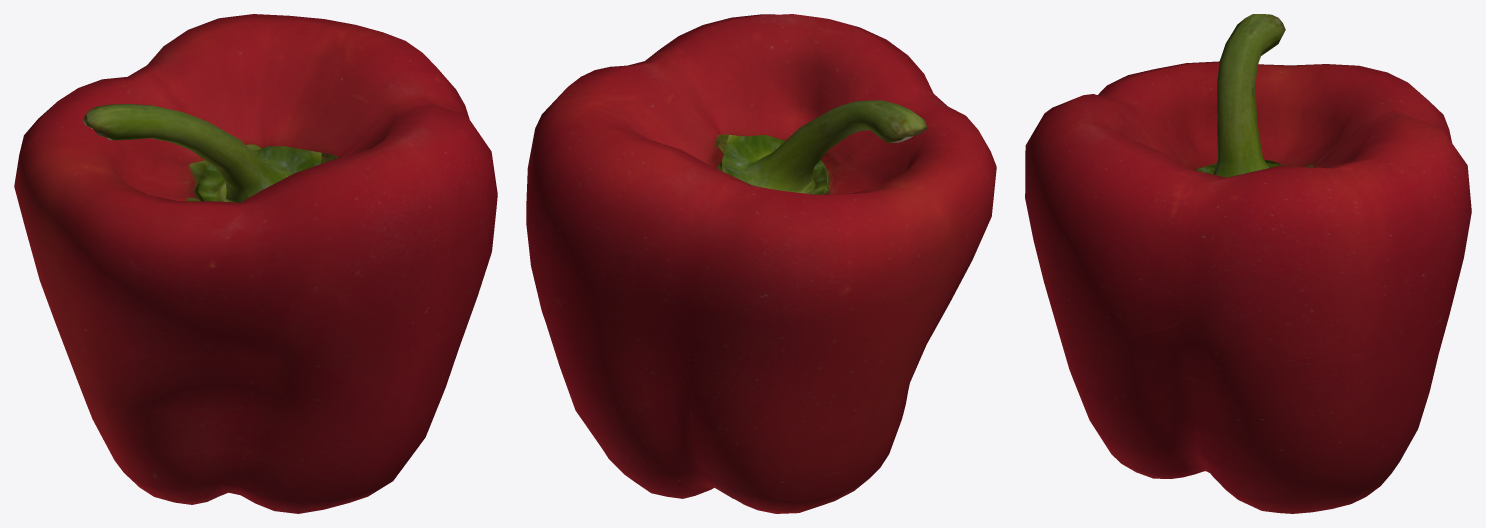
File: Red Capsicum.fbx
3 renders of one model, left to right at view 1: azimuth 30°, elevation 25°; view 2: azimuth 150°, elevation 25°; view 3: azimuth 270°, elevation 25°, orthographic. The views are drawn at different scales.
Parts seen in each view (by area): view 1: RedCapsicum; view 2: RedCapsicum; view 3: RedCapsicum.
Boxes of the visible parts, left/top/right/bottom form: RedCapsicum: left=14, top=14, right=497, bottom=513; RedCapsicum: left=526, top=14, right=996, bottom=513; RedCapsicum: left=1025, top=14, right=1471, bottom=513.
Bounding box in the file's own units: 13.28 × 12.72 × 13.06.
